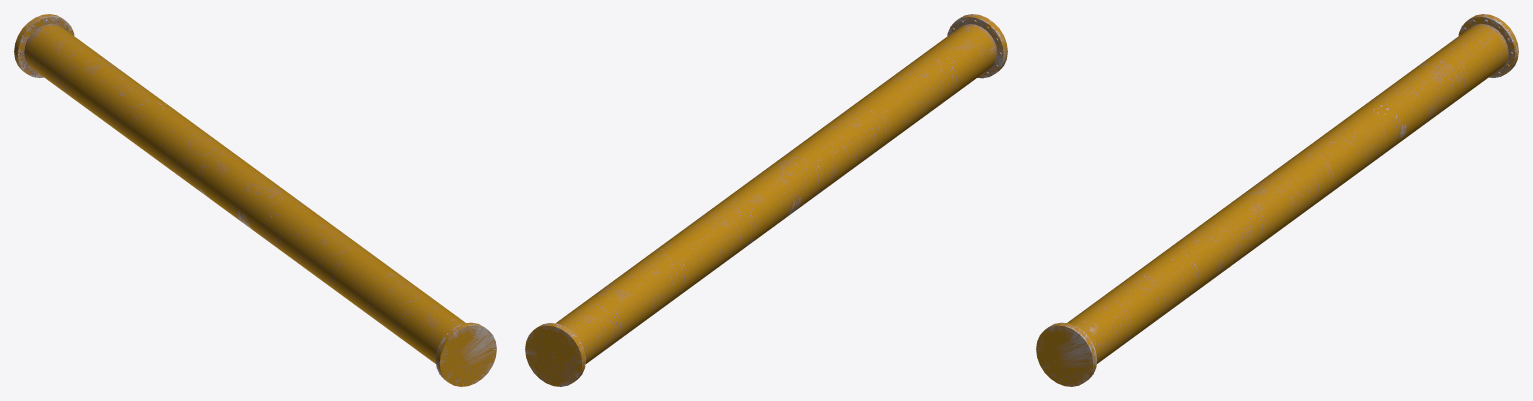
Rendered from Pipe.obj.
The picture shows the model from 3 angles, left to right: view 1: azimuth 30°, elevation 25°; view 2: azimuth 150°, elevation 25°; view 3: azimuth 330°, elevation 25°; orthographic projection.
Parts seen in each view (by area): view 1: Cylinder006; view 2: Cylinder006; view 3: Cylinder006.
Boxes of the visible parts, bbox=[...] form: Cylinder006: bbox=[14, 14, 496, 386]; Cylinder006: bbox=[525, 14, 1007, 386]; Cylinder006: bbox=[1036, 14, 1518, 386].
Bounding box in the file's own units: 0.7762 × 0.7762 × 10.
Materials: 1 (1 with a texture image).
